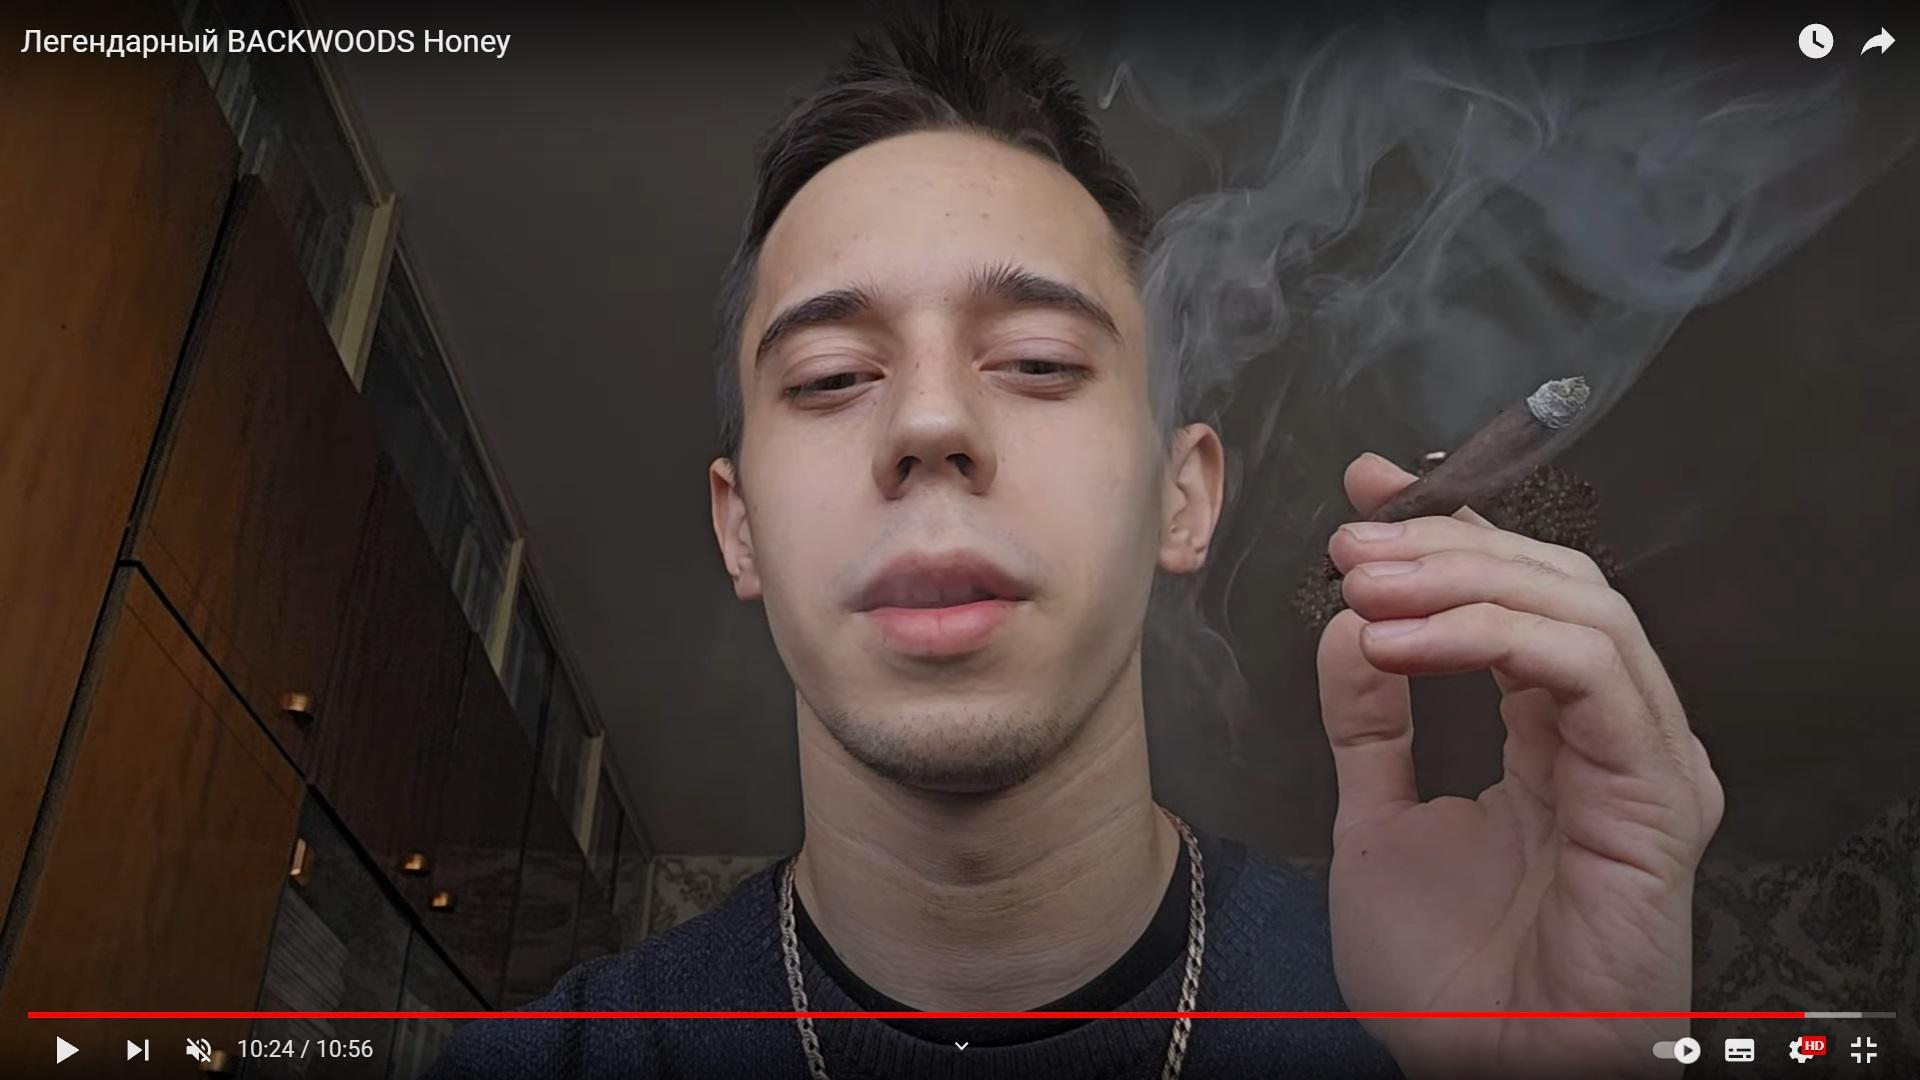cigarette: (1373, 378, 1590, 521)
